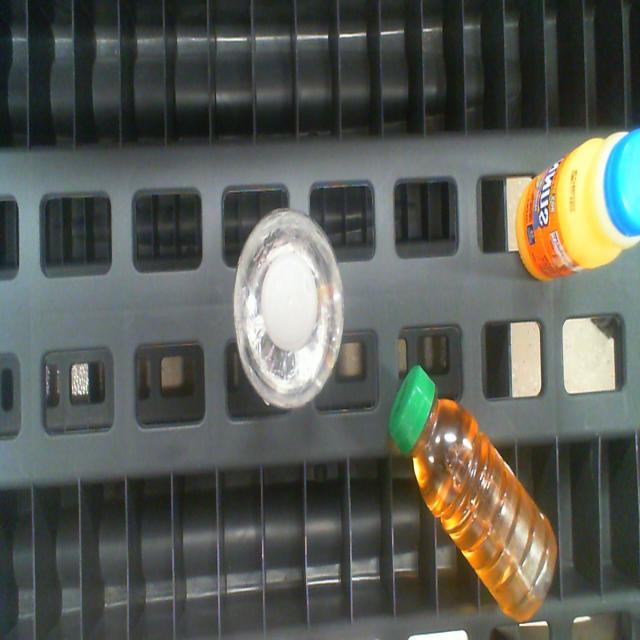drink: (261, 256, 318, 352)
